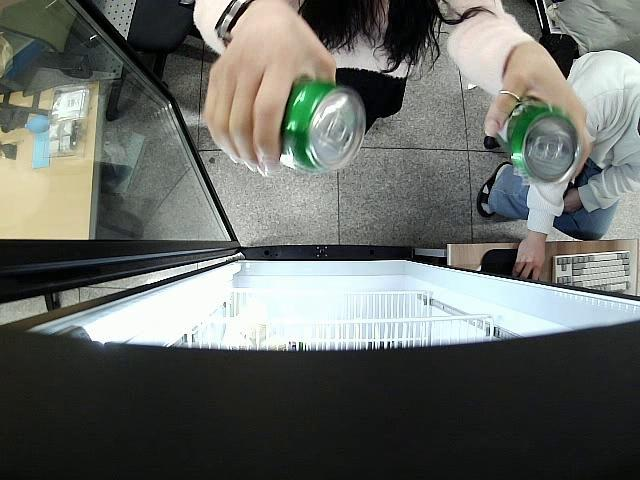12_chilsungCider: (281, 80, 366, 178), (499, 100, 578, 177)
